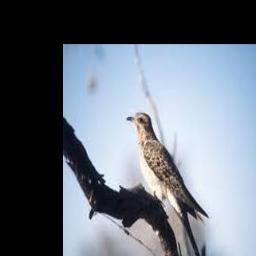Cuckoo: (127, 112, 209, 256)
